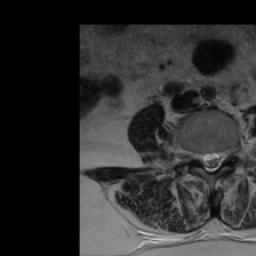CCS_normal: (207, 145, 214, 178)
LFS_normal: (223, 136, 232, 166)
LLS_normal: (214, 144, 223, 175)
RFS_normal: (191, 143, 199, 167)
RLS_normal: (199, 145, 207, 173)
